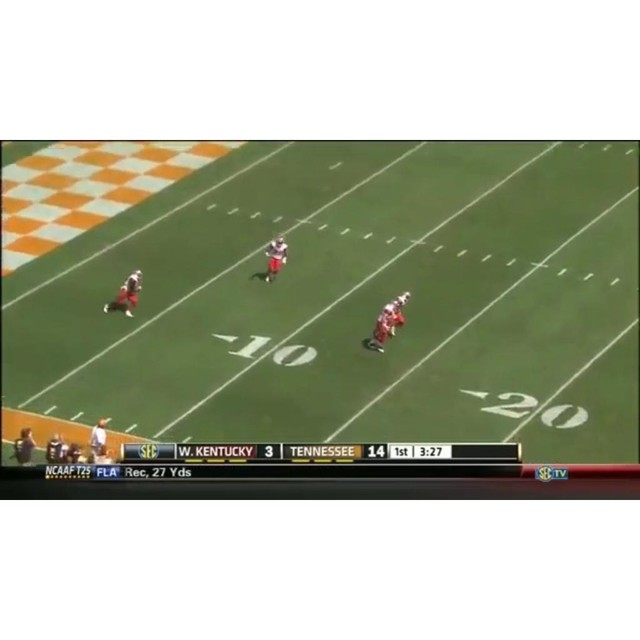american-football-player: (362, 300, 402, 352), (103, 269, 144, 318), (250, 234, 289, 284)
